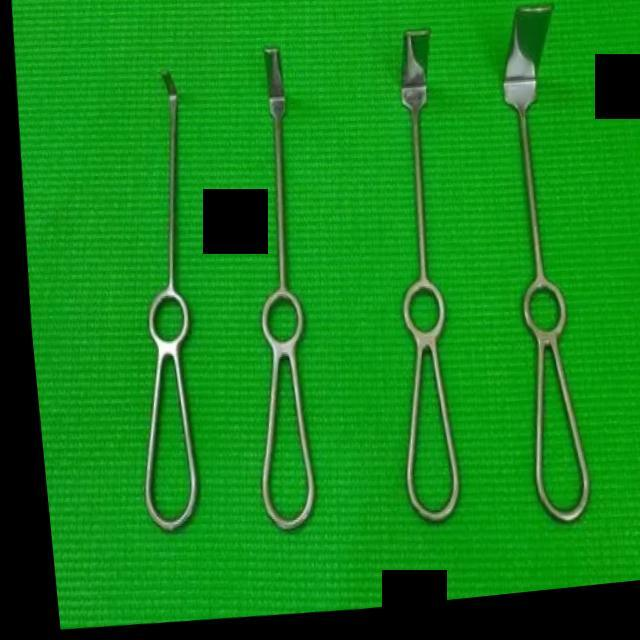Langenbach Retractor: (472, 0, 606, 548), (90, 49, 226, 552), (352, 20, 476, 549), (211, 46, 333, 555)
